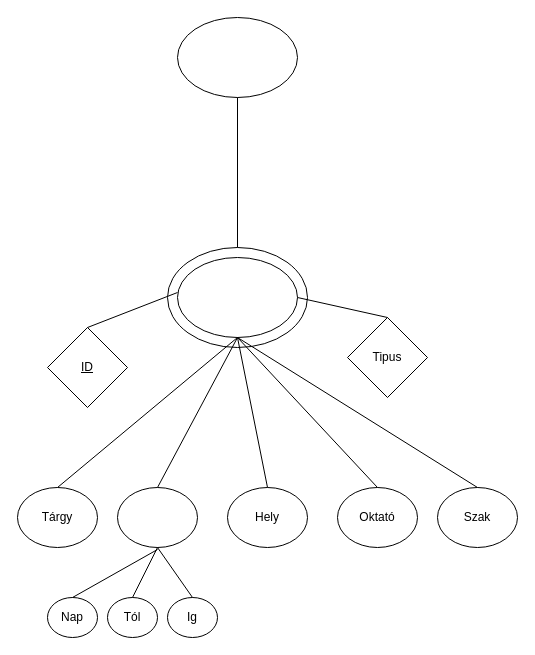
This 535x655 diagram has some shape labels left out. Here are the shapes that lost their labels. From the top down, the centre of each, then its label:
At pixel 237 297: "NLFUA8_orarend".
At pixel 157 517: "Időpont".
